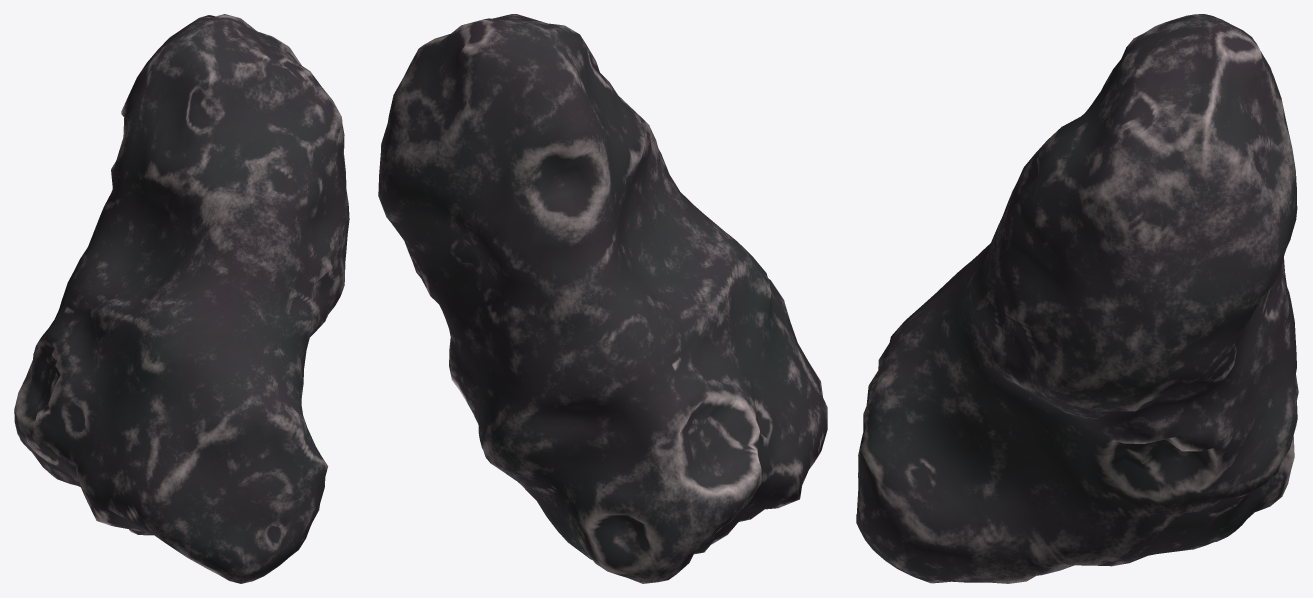
3 renders of one model, left to right at view 1: azimuth 30°, elevation 25°; view 2: azimuth 150°, elevation 25°; view 3: azimuth 270°, elevation 25°, orthographic. The views are drawn at different scales.
Parts seen in each view (by area): view 1: 2.001; view 2: 2.001; view 3: 2.001.
Part boxes in pixels (x1=…): 2.001: x1=14, y1=14, x2=349, y2=583; 2.001: x1=378, y1=14, x2=827, y2=583; 2.001: x1=856, y1=14, x2=1298, y2=583.
Bounding box in the file's own units: 6.76 × 9.76 × 6.57.
1 material, 1 textured.
